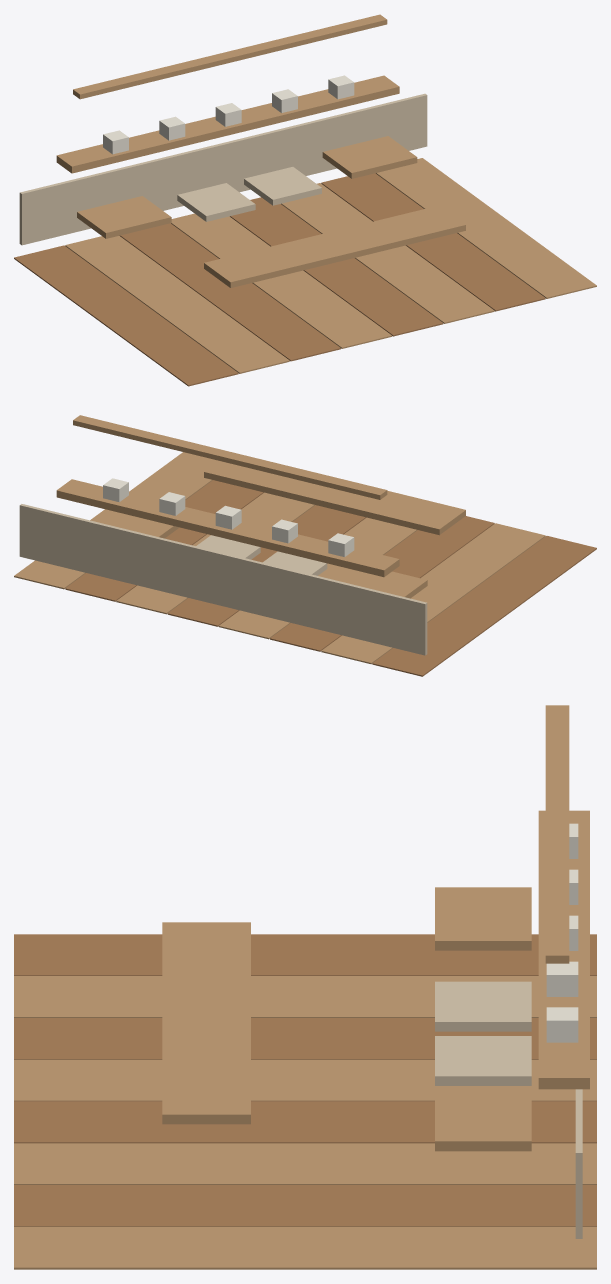
Rendered from ENV_Store_Interior_A.glb.
3 views of the same model, one above another, from view 1: azimuth 30°, elevation 25°; view 2: azimuth 150°, elevation 25°; view 3: azimuth 270°, elevation 25° (orthographic). The views are drawn at different scales.
Visible parts, largest first — view 1: Back_Tile, Floor_Plank_1, Floor_Plank_2, Floor_Plank_8, Floor_Plank_3, Counter_Top, Floor_Plank_7, Floor_Plank_4, Floor_Plank_5, Floor_Plank_6, Back_Shelf, Sign_Trim_Top (+9 smaller); view 2: Back_Tile, Floor_Plank_1, Back_Shelf, Floor_Plank_2, Counter_Top, Floor_Plank_3, Sign_Trim_Top, Floor_Plank_8, Floor_Plank_7, Floor_Plank_4, Floor_Plank_5, Floor_Plank_6 (+9 smaller); view 3: Floor_Plank_8, Floor_Plank_7, Floor_Plank_6, Floor_Plank_5, Counter_Top, Floor_Plank_1, Floor_Plank_4, Floor_Plank_2, Floor_Plank_3, Back_Shelf, Sign_Trim_Top, Plate_CounterTop (+6 smaller).
Boxes of the visible parts, x1=… form: Back_Tile: x1=19, y1=93, x2=427, y2=245; Floor_Plank_1: x1=14, y1=245, x2=238, y2=386; Floor_Plank_2: x1=65, y1=236, x2=289, y2=373; Floor_Plank_8: x1=376, y1=158, x2=596, y2=298; Floor_Plank_3: x1=119, y1=223, x2=340, y2=361; Counter_Top: x1=204, y1=205, x2=465, y2=287; Floor_Plank_7: x1=321, y1=173, x2=545, y2=311; Floor_Plank_4: x1=171, y1=213, x2=392, y2=348; Floor_Plank_5: x1=230, y1=197, x2=443, y2=336; Floor_Plank_6: x1=281, y1=183, x2=494, y2=323; Back_Shelf: x1=56, y1=75, x2=399, y2=173; Sign_Trim_Top: x1=73, y1=14, x2=387, y2=99; Back_Tile: x1=19, y1=504, x2=427, y2=655; Floor_Plank_1: x1=372, y1=536, x2=596, y2=676; Back_Shelf: x1=56, y1=479, x2=399, y2=577; Floor_Plank_2: x1=321, y1=523, x2=545, y2=664; Counter_Top: x1=204, y1=461, x2=465, y2=535; Floor_Plank_3: x1=270, y1=516, x2=494, y2=651; Sign_Trim_Top: x1=73, y1=415, x2=387, y2=499; Floor_Plank_8: x1=14, y1=452, x2=218, y2=589; Floor_Plank_7: x1=65, y1=480, x2=263, y2=601; Floor_Plank_4: x1=218, y1=517, x2=417, y2=639; Floor_Plank_5: x1=167, y1=505, x2=366, y2=626; Floor_Plank_6: x1=116, y1=492, x2=314, y2=614; Floor_Plank_8: x1=14, y1=1226, x2=596, y2=1269; Floor_Plank_7: x1=14, y1=1185, x2=596, y2=1226; Floor_Plank_6: x1=14, y1=1143, x2=596, y2=1184; Floor_Plank_5: x1=14, y1=1101, x2=596, y2=1143; Counter_Top: x1=162, y1=922, x2=250, y2=1124; Floor_Plank_1: x1=14, y1=934, x2=596, y2=975; Floor_Plank_4: x1=14, y1=1059, x2=596, y2=1101; Floor_Plank_2: x1=14, y1=976, x2=596, y2=1017; Floor_Plank_3: x1=14, y1=1018, x2=596, y2=1059; Back_Shelf: x1=538, y1=810, x2=589, y2=1089; Sign_Trim_Top: x1=545, y1=705, x2=569, y2=963; Plate_CounterTop: x1=435, y1=1088, x2=531, y2=1151.
Size of the model in its own units: 7.98 by 3.05 by 5.9.
